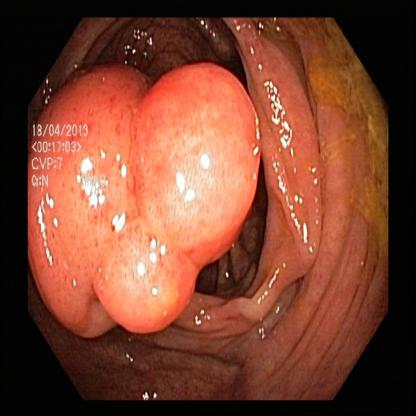Labels: (27, 113, 101, 198)
Polyps: (102, 74, 258, 335), (29, 198, 100, 337)
